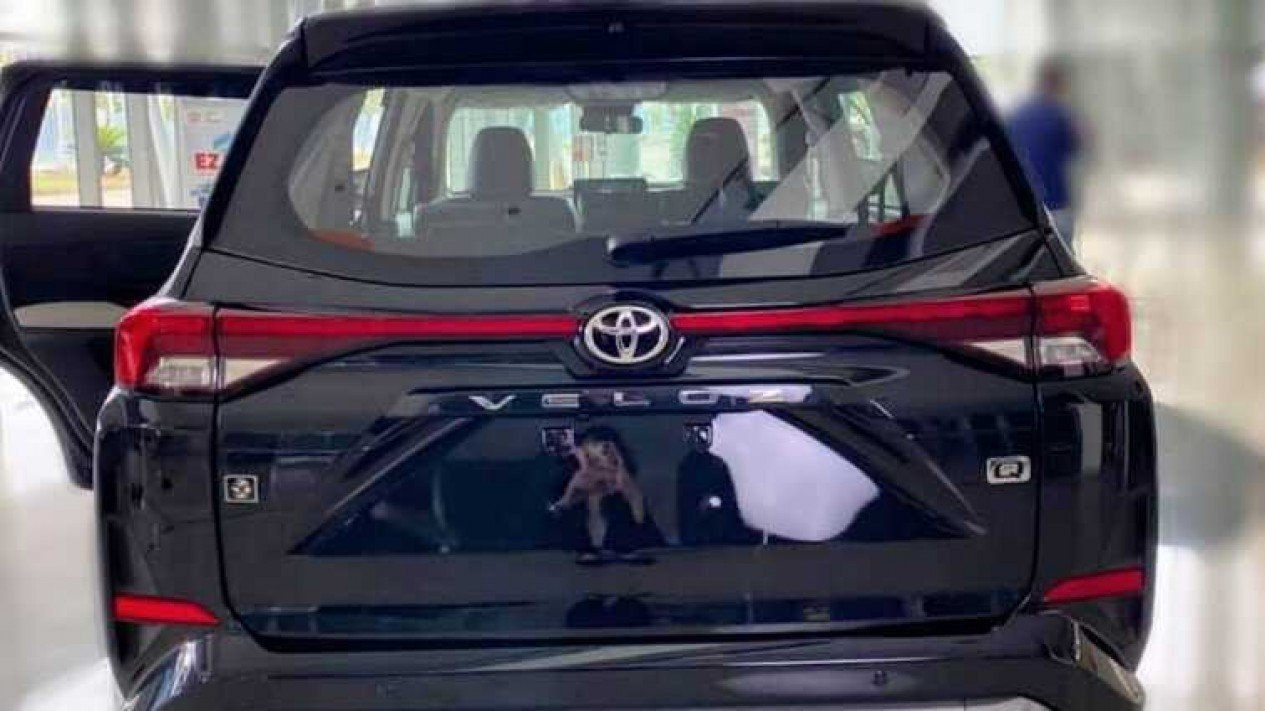mobil: (89, 19, 1165, 711)
